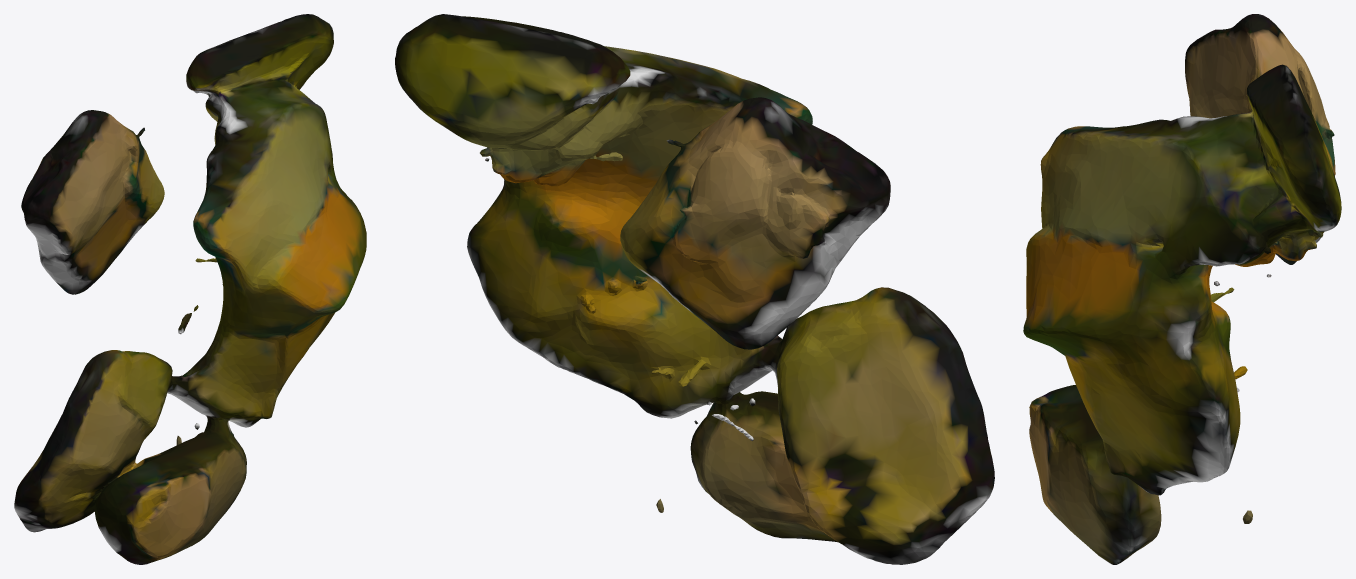
File: bloodstone.glb
The picture shows the model from 3 angles, left to right: view 1: azimuth 30°, elevation 25°; view 2: azimuth 150°, elevation 25°; view 3: azimuth 270°, elevation 25°; orthographic projection. The views are drawn at different scales.
Visible parts, largest first — view 1: geometry_0; view 2: geometry_0; view 3: geometry_0.
Boxes of the visible parts, box(x1,y1,x2,y2) form: geometry_0: box(14, 14, 366, 564); geometry_0: box(395, 14, 994, 564); geometry_0: box(1023, 14, 1341, 564).
Bounding box in the file's own units: 0.6875 × 0.7092 × 0.3704.
